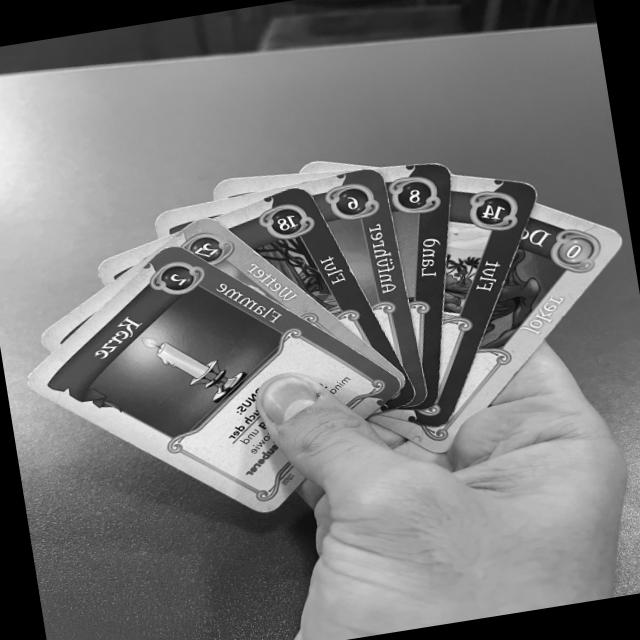Candle: (22, 244, 407, 518)
Clock Tower: (378, 163, 450, 400)
Doppelganger: (423, 202, 628, 452)
Island: (438, 175, 542, 422)
Queen: (308, 166, 428, 397)
Smoke: (169, 213, 405, 381)
Swamp: (216, 184, 404, 368)
